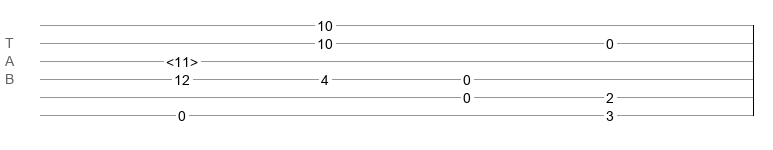0: (178, 108, 186, 118), (463, 90, 471, 100), (463, 72, 471, 82), (606, 36, 614, 46)
10: (317, 36, 333, 46), (317, 18, 333, 28)
12: (174, 72, 190, 82)
2: (606, 90, 614, 100)
3: (606, 108, 614, 118)
4: (321, 72, 329, 82)
harmonic: (166, 54, 198, 64)
